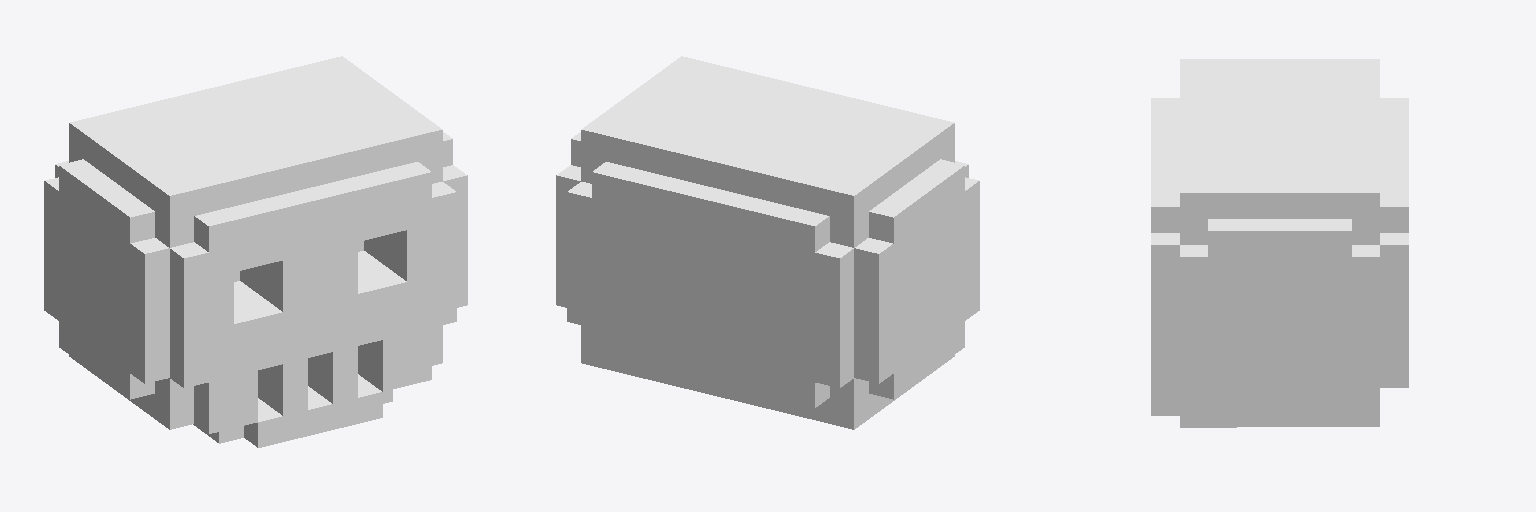
The model's file is skelHead.vox.obj.
3 views of the same model, side by side, from view 1: azimuth 30°, elevation 25°; view 2: azimuth 150°, elevation 25°; view 3: azimuth 270°, elevation 25° (orthographic).
Parts seen in each view (by area): view 1: object 1; view 2: object 1; view 3: object 1.
Part boxes in pixels (left/top/right/bottom): object 1: left=44, top=56, right=467, bottom=447; object 1: left=556, top=56, right=979, bottom=429; object 1: left=1151, top=59, right=1408, bottom=427.
Size of the model in its own units: 1.3 by 1 by 0.9.